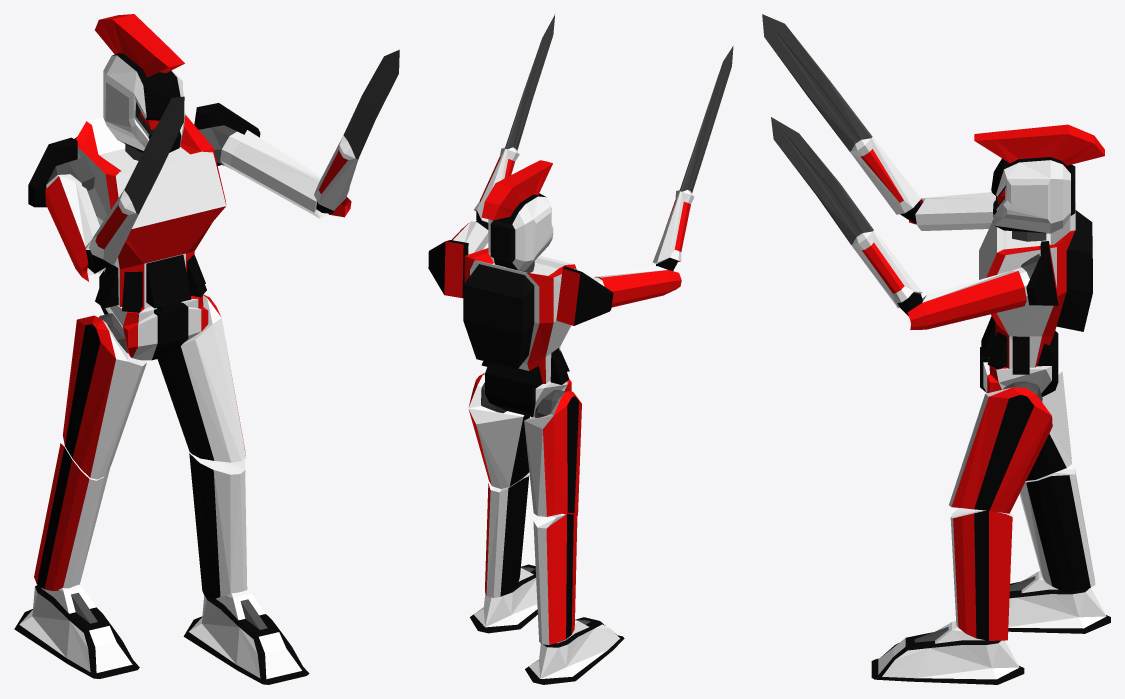
Rendered from robots_000011.obj.
The picture shows the model from 3 angles, left to right: view 1: azimuth 30°, elevation 25°; view 2: azimuth 150°, elevation 25°; view 3: azimuth 270°, elevation 25°; orthographic projection. The views are drawn at different scales.
Parts seen in each view (by area): view 1: Chest_plate_Cube.004, R_Thigh_Cube.005, R_Forearm.002_Cube.033, R_Thigh.002_Cube.027, Head_gladiator_Cube.024, R_Forearm.001_Cube.028, R_Shin.002_Cube.029, R_Foot_Cube, R_Foot.002_Cube.035, R_Shin_Cube.007, Pelvis_Cube.006, R_Arm.002_Cube.032 (+1 smaller); view 2: Chest_plate_Cube.004, Head_gladiator_Cube.024, R_Thigh_Cube.005, R_Forearm.001_Cube.028, R_Shin_Cube.007, R_Shin.002_Cube.029, R_Thigh.002_Cube.027, R_Foot_Cube, R_Forearm.002_Cube.033, Pelvis_Cube.006, R_Foot.002_Cube.035, R_Arm.002_Cube.032 (+1 smaller); view 3: Chest_plate_Cube.004, R_Forearm.002_Cube.033, Head_gladiator_Cube.024, R_Forearm.001_Cube.028, R_Thigh.002_Cube.027, R_Shin.002_Cube.029, R_Shin_Cube.007, R_Foot.002_Cube.035, R_Foot_Cube, R_Thigh_Cube.005, Pelvis_Cube.006, R_Arm.003_Cube.034.
Part boxes in pixels (<box>): Chest_plate_Cube.004: <box>74,115,226,312</box>; R_Thigh_Cube.005: <box>62,315,147,479</box>; R_Forearm.002_Cube.033: <box>230,49,399,218</box>; R_Thigh.002_Cube.027: <box>157,294,246,462</box>; Head_gladiator_Cube.024: <box>95,14,185,152</box>; R_Forearm.001_Cube.028: <box>45,96,184,281</box>; R_Shin.002_Cube.029: <box>189,451,247,599</box>; R_Foot_Cube: <box>14,584,139,678</box>; R_Foot.002_Cube.035: <box>183,590,309,684</box>; R_Shin_Cube.007: <box>34,443,110,591</box>; Pelvis_Cube.006: <box>99,270,208,360</box>; R_Arm.002_Cube.032: <box>28,137,94,207</box>; Chest_plate_Cube.004: <box>463,248,576,384</box>; Head_gladiator_Cube.024: <box>481,160,553,270</box>; R_Thigh_Cube.005: <box>524,391,581,516</box>; R_Forearm.001_Cube.028: <box>594,46,733,307</box>; R_Shin_Cube.007: <box>533,513,577,644</box>; R_Shin.002_Cube.029: <box>485,473,529,597</box>; R_Thigh.002_Cube.027: <box>468,373,529,488</box>; R_Foot_Cube: <box>525,617,624,684</box>; R_Forearm.002_Cube.033: <box>451,14,555,253</box>; Pelvis_Cube.006: <box>484,362,571,417</box>; R_Foot.002_Cube.035: <box>470,564,537,633</box>; R_Arm.002_Cube.032: <box>556,266,613,325</box>; Chest_plate_Cube.004: <box>979,202,1092,374</box>; R_Forearm.002_Cube.033: <box>771,117,1026,329</box>; Head_gladiator_Cube.024: <box>974,124,1104,233</box>; R_Forearm.001_Cube.028: <box>762,14,995,230</box>; R_Thigh.002_Cube.027: <box>949,387,1052,513</box>; R_Shin.002_Cube.029: <box>950,508,1012,640</box>; R_Shin_Cube.007: <box>1019,464,1095,591</box>; R_Foot.002_Cube.035: <box>871,621,1024,684</box>; R_Foot_Cube: <box>1008,571,1110,633</box>; R_Thigh_Cube.005: <box>1026,363,1071,480</box>; Pelvis_Cube.006: <box>980,331,1058,396</box>; R_Arm.003_Cube.034: <box>1011,241,1058,305</box>.
Size of the model in its own units: 1.51 by 3.58 by 1.93.
